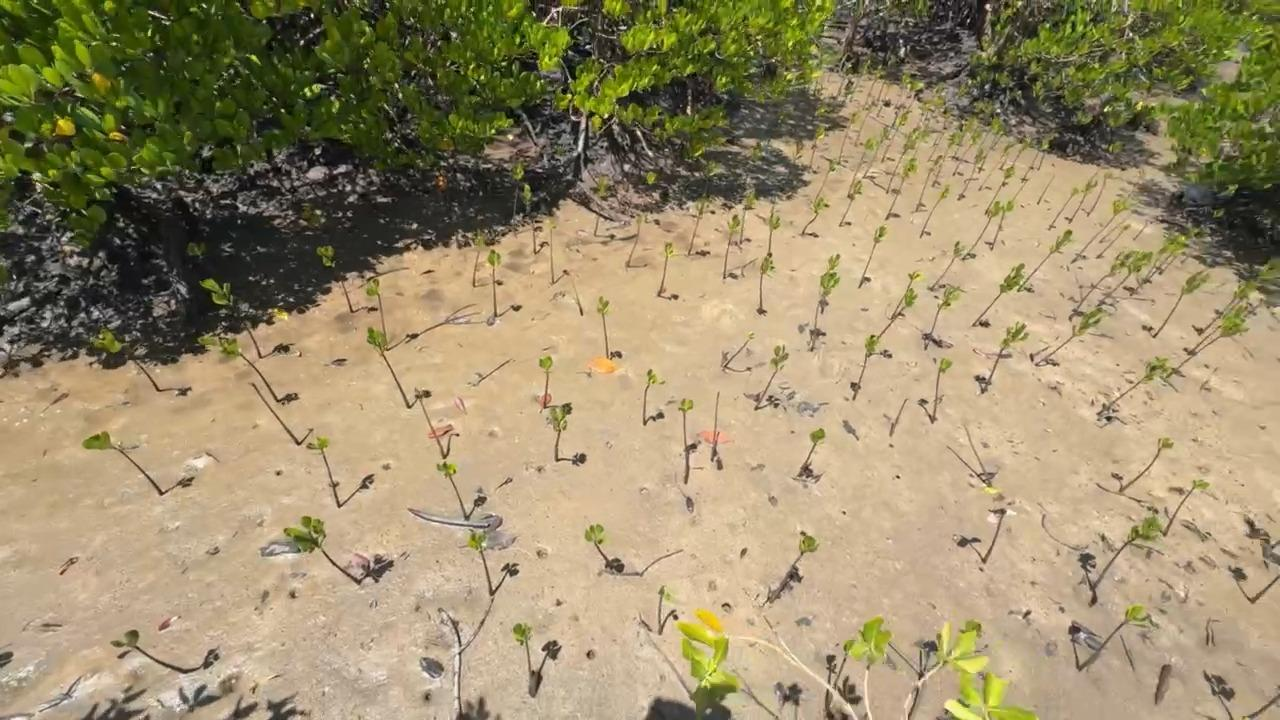Tree: (1090, 511, 1165, 591), (1076, 603, 1158, 672), (1164, 316, 1252, 379), (283, 516, 361, 586), (198, 336, 279, 402), (81, 431, 163, 496), (1070, 193, 1145, 264), (199, 277, 263, 360), (1096, 356, 1174, 416), (1158, 208, 1226, 276), (1034, 306, 1110, 366), (89, 332, 160, 391), (1075, 248, 1139, 310), (1221, 254, 1280, 321), (1152, 270, 1209, 338), (366, 326, 410, 409), (1017, 229, 1074, 293), (981, 320, 1030, 394), (769, 535, 820, 605), (109, 629, 188, 674), (1128, 231, 1182, 296), (971, 263, 1025, 327), (1118, 436, 1176, 493), (1144, 226, 1201, 284), (247, 382, 300, 444), (1096, 252, 1154, 308), (1187, 303, 1248, 356), (1198, 279, 1254, 335), (1159, 222, 1216, 276), (811, 254, 842, 352), (1162, 479, 1210, 537), (316, 245, 355, 313), (960, 201, 1004, 261), (754, 344, 790, 411), (886, 127, 922, 194), (414, 387, 447, 459), (306, 435, 338, 507), (877, 287, 918, 339), (977, 141, 1018, 192), (885, 158, 918, 221), (926, 284, 962, 340), (858, 224, 889, 289), (437, 460, 470, 521), (930, 241, 968, 291), (963, 425, 993, 487), (889, 270, 925, 321), (852, 334, 879, 401), (977, 121, 1011, 174), (467, 530, 494, 596), (365, 277, 389, 351), (1048, 182, 1084, 231), (1067, 170, 1099, 225), (794, 427, 826, 481), (914, 155, 944, 212), (931, 132, 962, 187), (881, 110, 913, 163), (984, 164, 1016, 217), (920, 183, 950, 239), (952, 128, 985, 176), (861, 126, 890, 179), (957, 147, 985, 201), (931, 356, 953, 424), (836, 108, 862, 165), (982, 508, 1007, 565), (550, 402, 573, 462), (678, 398, 694, 484), (1096, 222, 1133, 259), (642, 368, 666, 425), (1241, 685, 1280, 720), (853, 95, 879, 147), (639, 548, 684, 578), (519, 183, 538, 254), (1086, 169, 1114, 217), (686, 198, 709, 256), (1021, 138, 1049, 185), (990, 199, 1014, 251), (584, 523, 612, 567), (833, 640, 857, 689), (722, 214, 740, 279), (512, 622, 533, 677), (814, 157, 839, 203), (1097, 212, 1134, 243), (950, 116, 976, 160), (1242, 290, 1280, 320), (863, 64, 887, 111), (1248, 570, 1280, 605), (724, 331, 754, 368), (511, 158, 525, 237), (593, 174, 610, 237), (741, 142, 762, 193), (487, 249, 502, 318), (758, 255, 775, 314), (784, 139, 806, 184), (657, 240, 674, 298), (801, 197, 825, 236), (1177, 238, 1212, 264), (897, 78, 926, 109), (596, 296, 610, 360), (544, 217, 557, 285), (739, 189, 755, 244), (626, 215, 642, 268), (538, 355, 553, 409), (658, 584, 674, 634), (472, 227, 485, 288), (809, 123, 826, 169), (978, 117, 1001, 150), (889, 398, 908, 437), (1037, 131, 1055, 171), (877, 78, 894, 119), (1011, 133, 1032, 166), (893, 71, 911, 109), (933, 111, 952, 147), (851, 59, 871, 92), (912, 126, 932, 159), (1037, 173, 1057, 205), (711, 391, 720, 462), (767, 213, 781, 257), (702, 159, 717, 199), (926, 131, 945, 162), (1130, 219, 1152, 242), (836, 66, 852, 97), (891, 103, 905, 130), (1013, 178, 1030, 200), (999, 148, 1011, 170), (1269, 539, 1280, 549)
